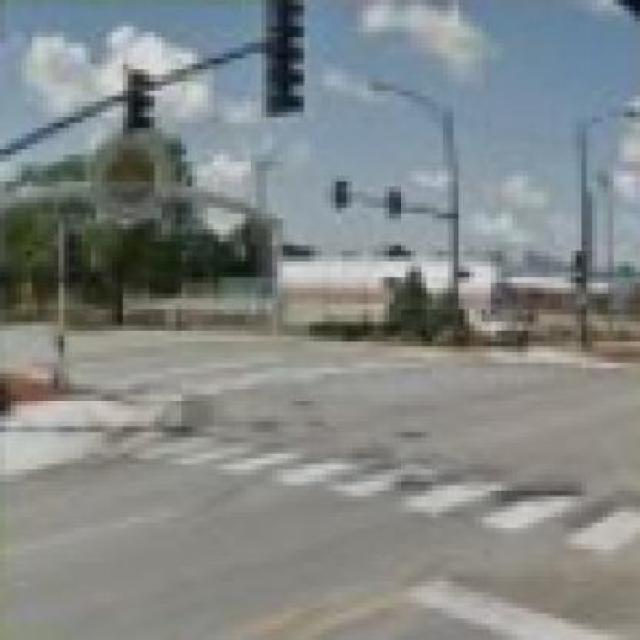crosswalk: (123, 432, 640, 556)
